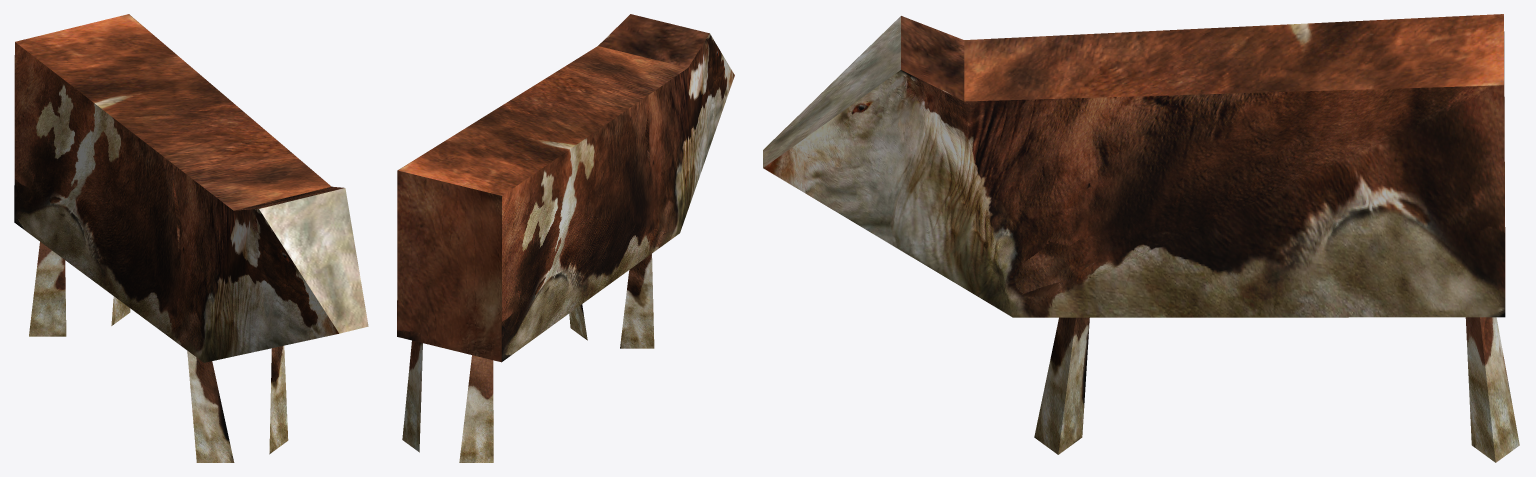
Rendered from cow-stand-brown-cbj_LOD04.gltf.
The picture shows the model from 3 angles, left to right: view 1: azimuth 30°, elevation 25°; view 2: azimuth 150°, elevation 25°; view 3: azimuth 270°, elevation 25°; orthographic projection. The views are drawn at different scales.
Visible parts, largest first — view 1: Line01.007; view 2: Line01.007; view 3: Line01.007.
Boxes of the visible parts, box(x1,y1,x2,y2) form: Line01.007: box(14, 14, 368, 462); Line01.007: box(397, 14, 734, 462); Line01.007: box(763, 14, 1519, 462).
Size of what is drawn, in the model's own units: 0.688 by 1.65 by 2.97.
